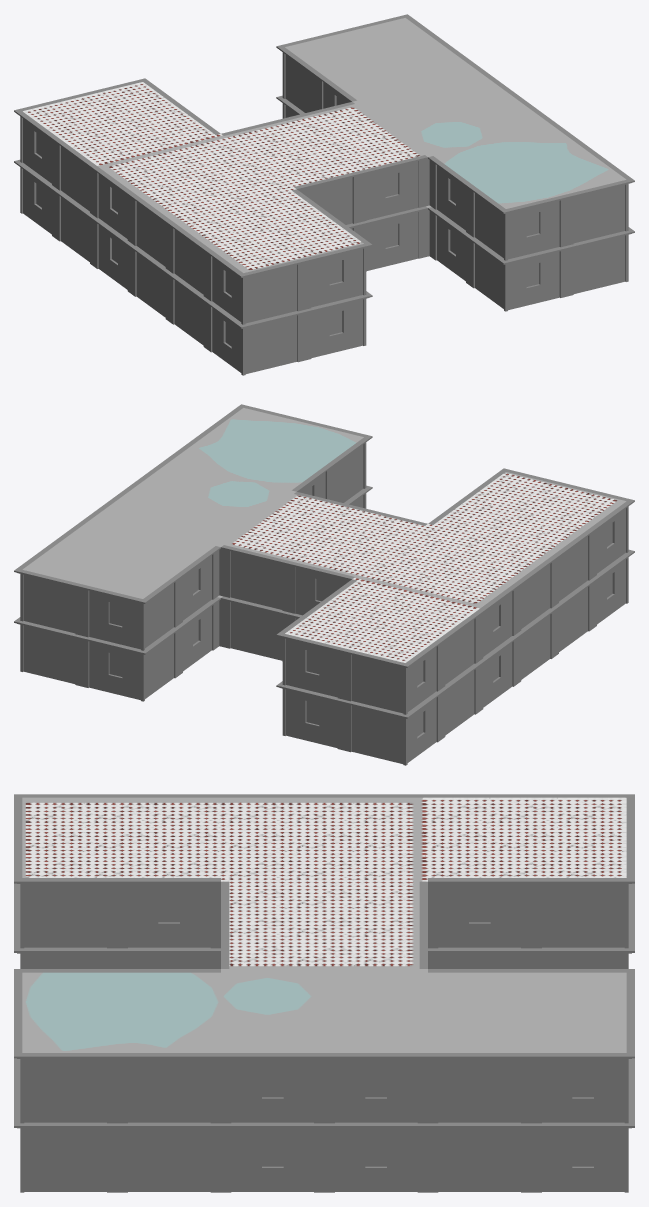
File: EdificioHospital.FBX
3 views of the same model, one above another, from view 1: azimuth 30°, elevation 25°; view 2: azimuth 150°, elevation 25°; view 3: azimuth 270°, elevation 25° (orthographic). The views are drawn at different scales.
Visible parts, largest first — view 1: hospital; view 2: hospital; view 3: hospital.
Boxes of the visible parts, bbox=[...] form: hospital: bbox=[14, 14, 634, 375]; hospital: bbox=[14, 404, 634, 765]; hospital: bbox=[14, 794, 634, 1192].
Size of the model in its own units: 3000 by 740 by 3000.
